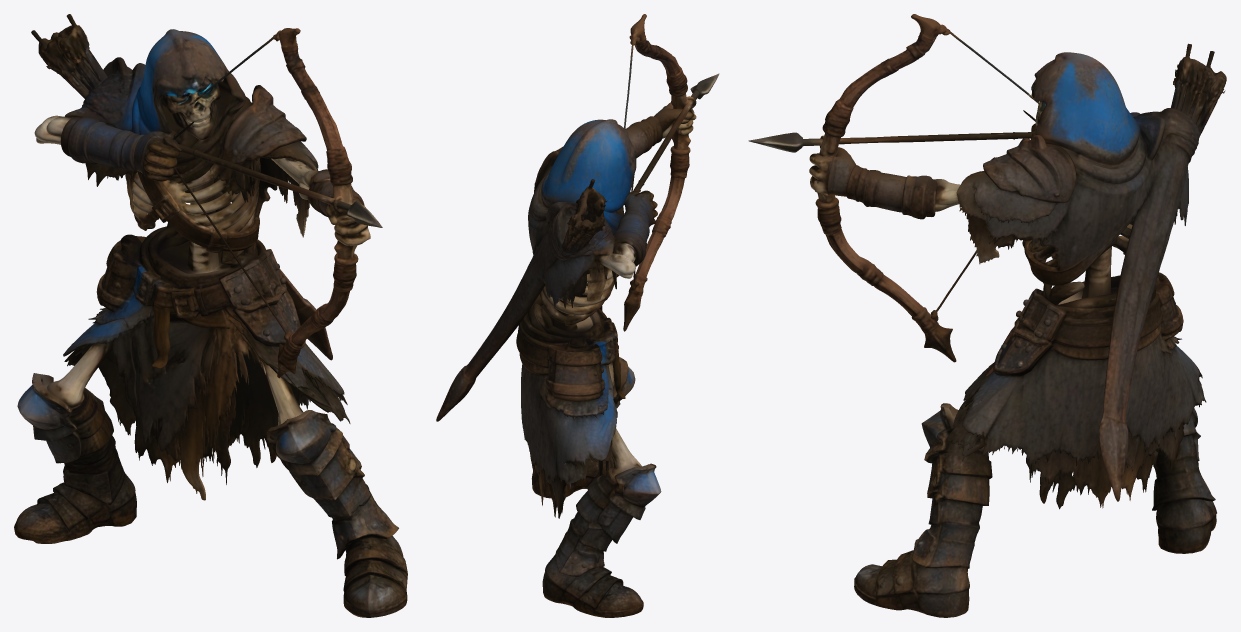
Rendered from enemy_skeleton_archer_01.glb.
3 renders of one model, left to right at view 1: azimuth 30°, elevation 25°; view 2: azimuth 150°, elevation 25°; view 3: azimuth 270°, elevation 25°, orthographic. The views are drawn at different scales.
Parts seen in each view (by area): view 1: material; view 2: material; view 3: material.
Boxes of the visible parts, <box> form: material: <box>14,14,407,617</box>; material: <box>436,14,719,617</box>; material: <box>748,14,1226,617</box>.
Size of the model in its own units: 0.4806 by 0.9231 by 0.7252.
1 material, 1 textured.
